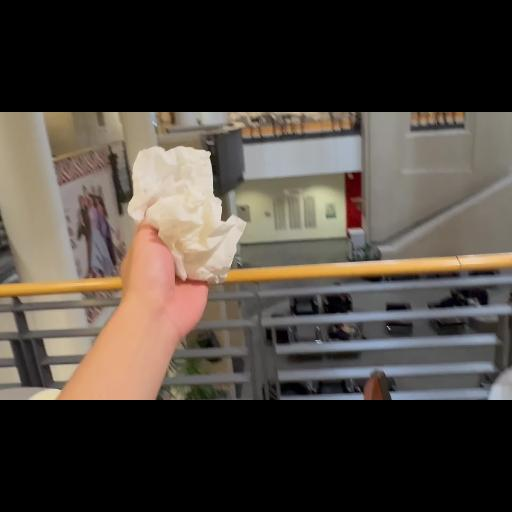napkin: (126, 143, 248, 287)
